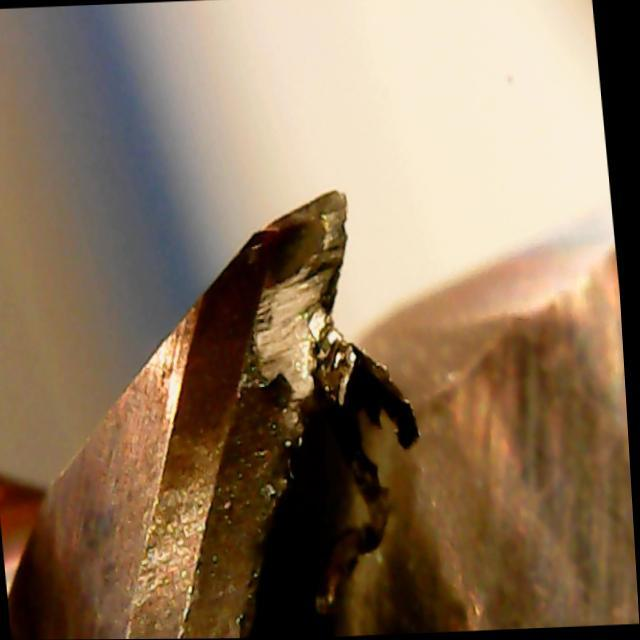Tool-wear-class-3: (156, 176, 429, 455)
